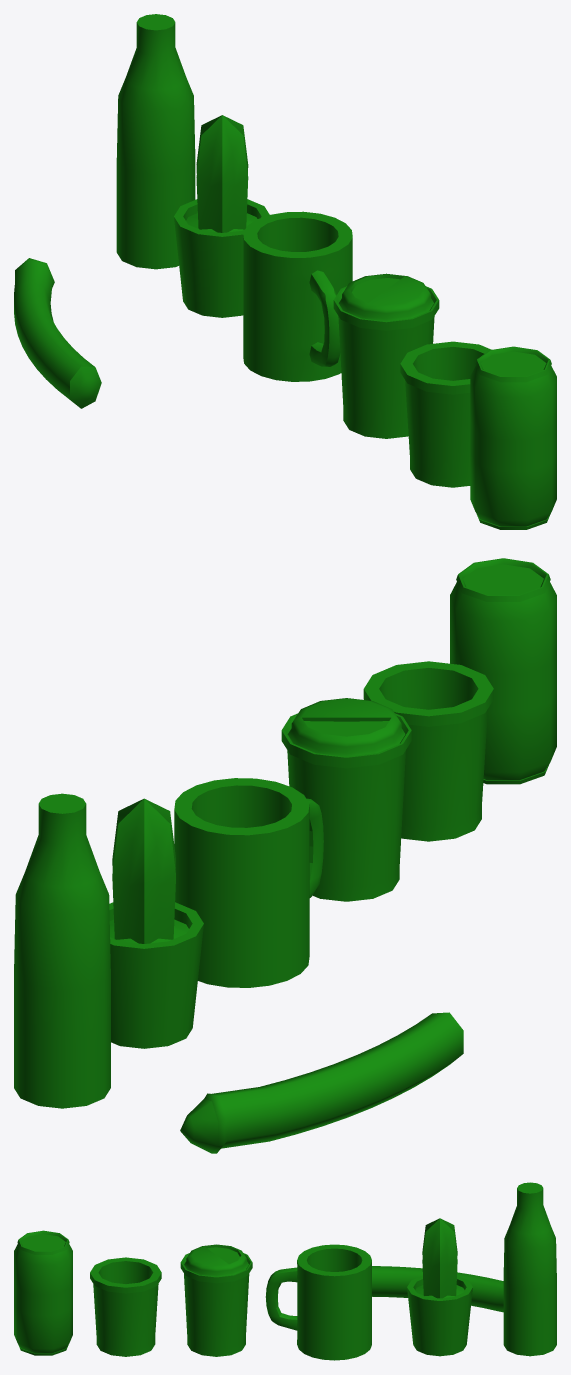
Rendered from InteractiveProps.fbx.
The picture shows the model from 3 angles, top to bottom: view 1: azimuth 30°, elevation 25°; view 2: azimuth 150°, elevation 25°; view 3: azimuth 270°, elevation 25°; orthographic projection. The views are drawn at different scales.
Parts seen in each view (by area): view 1: Cup, Bottle, Can, coffeCup, cactus, Pencil_case, Toy; view 2: Bottle, Cup, coffeCup, Can, cactus, Toy, Pencil_case; view 3: Cup, Bottle, Can, coffeCup, cactus, Pencil_case, Toy.
Part boxes in pixels (bbox=[...]): Cup: bbox=[243, 211, 352, 381]; Bottle: bbox=[116, 14, 195, 269]; Can: bbox=[470, 346, 556, 529]; coffeCup: bbox=[333, 273, 439, 438]; cactus: bbox=[174, 115, 269, 317]; Pencil_case: bbox=[400, 341, 491, 487]; Toy: bbox=[14, 258, 101, 408]; Bottle: bbox=[14, 793, 110, 1108]; Cup: bbox=[174, 778, 323, 987]; coffeCup: bbox=[281, 698, 411, 901]; Can: bbox=[450, 558, 556, 784]; cactus: bbox=[109, 798, 203, 1048]; Toy: bbox=[180, 1012, 463, 1153]; Pencil_case: bbox=[363, 661, 493, 841]; Cup: bbox=[265, 1244, 371, 1360]; Bottle: bbox=[503, 1182, 556, 1356]; Can: bbox=[14, 1230, 72, 1355]; coffeCup: bbox=[180, 1244, 252, 1356]; cactus: bbox=[407, 1218, 472, 1356]; Pencil_case: bbox=[90, 1257, 161, 1356]; Toy: bbox=[372, 1266, 503, 1312].
Size of the model in its own units: 26.96 by 25.83 by 74.04.
